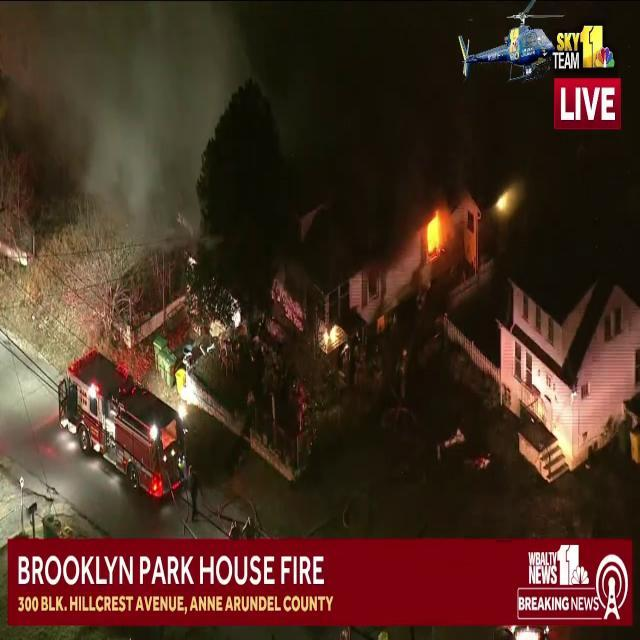Fire: (422, 204, 446, 258)
Smoke: (0, 0, 206, 279)
